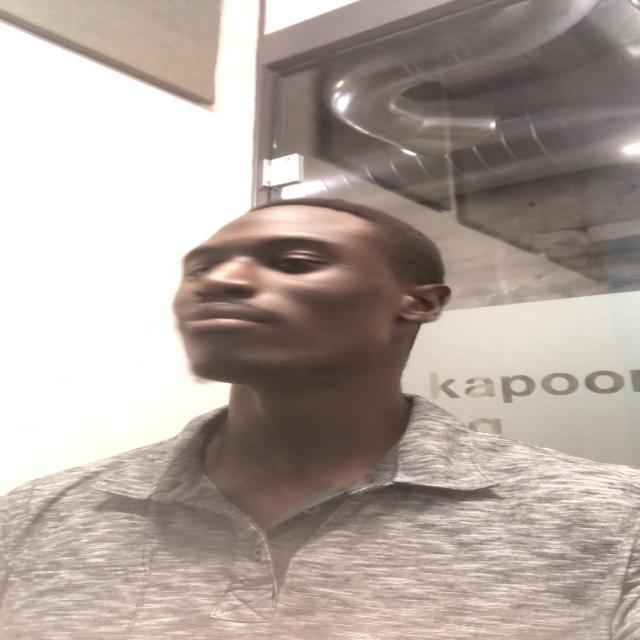face: (176, 215, 423, 379)
